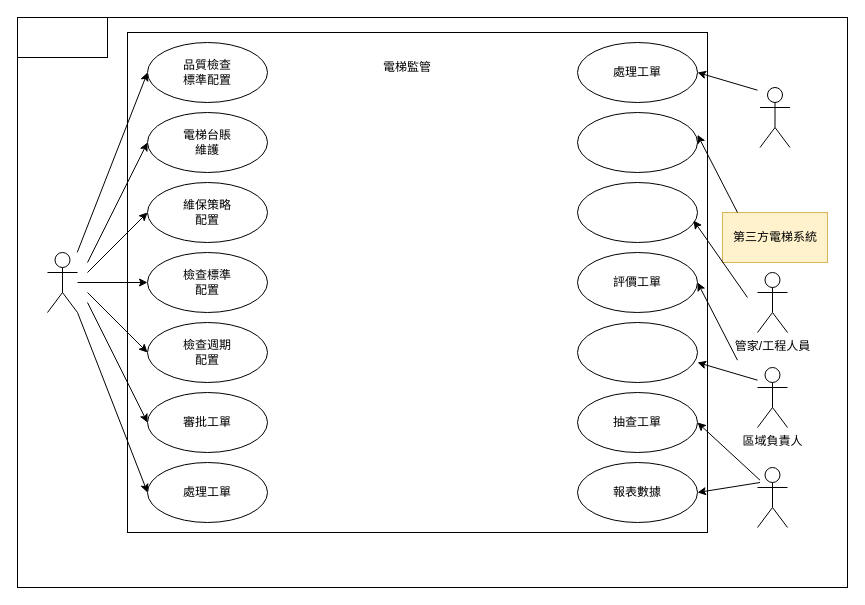
This 865x605 diagram has some shape labels left out. The shapes that lost their labels are listed below. From the top down, each one's centre as x and y in pixels, then its label:
At (62,37): "系統用例".
At (774,117): "維保工方".
At (637,142): "推送工單".
At (637,212): "訴求/報修".
At (62,282): "安全管理員".
At (637,352): "審核工單".
At (772,497): "總部監管員".
